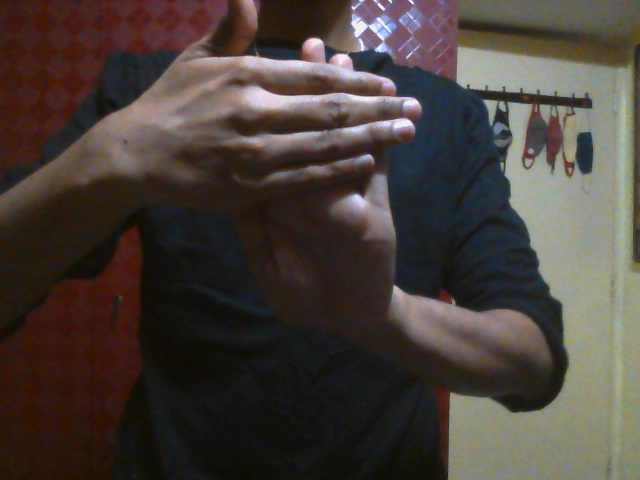H: (143, 4, 424, 329)
